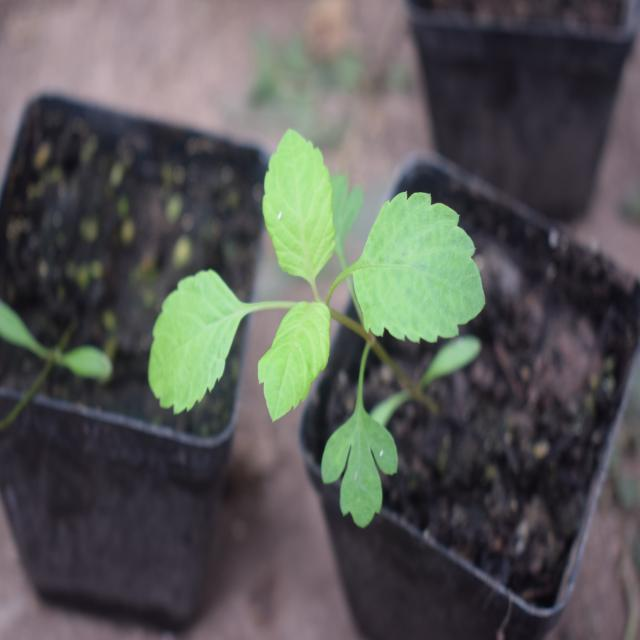Bidens pilosa: (126, 139, 492, 521)
